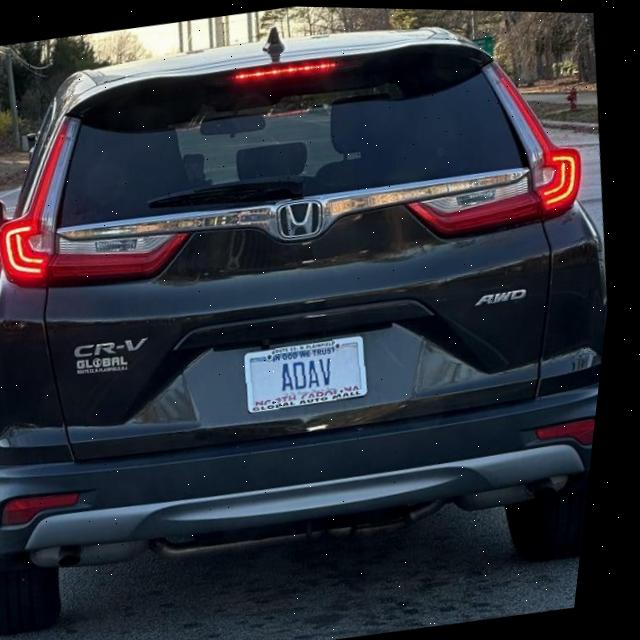LicensePlate: (252, 333, 378, 413)
